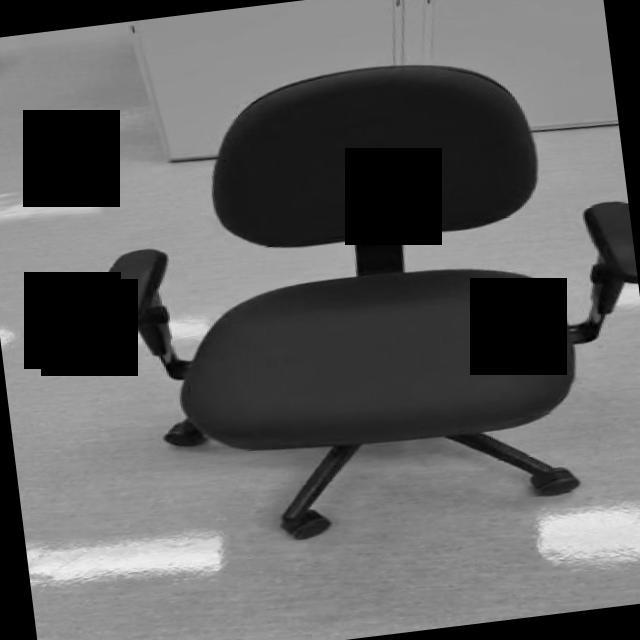chair: (64, 37, 640, 560)
